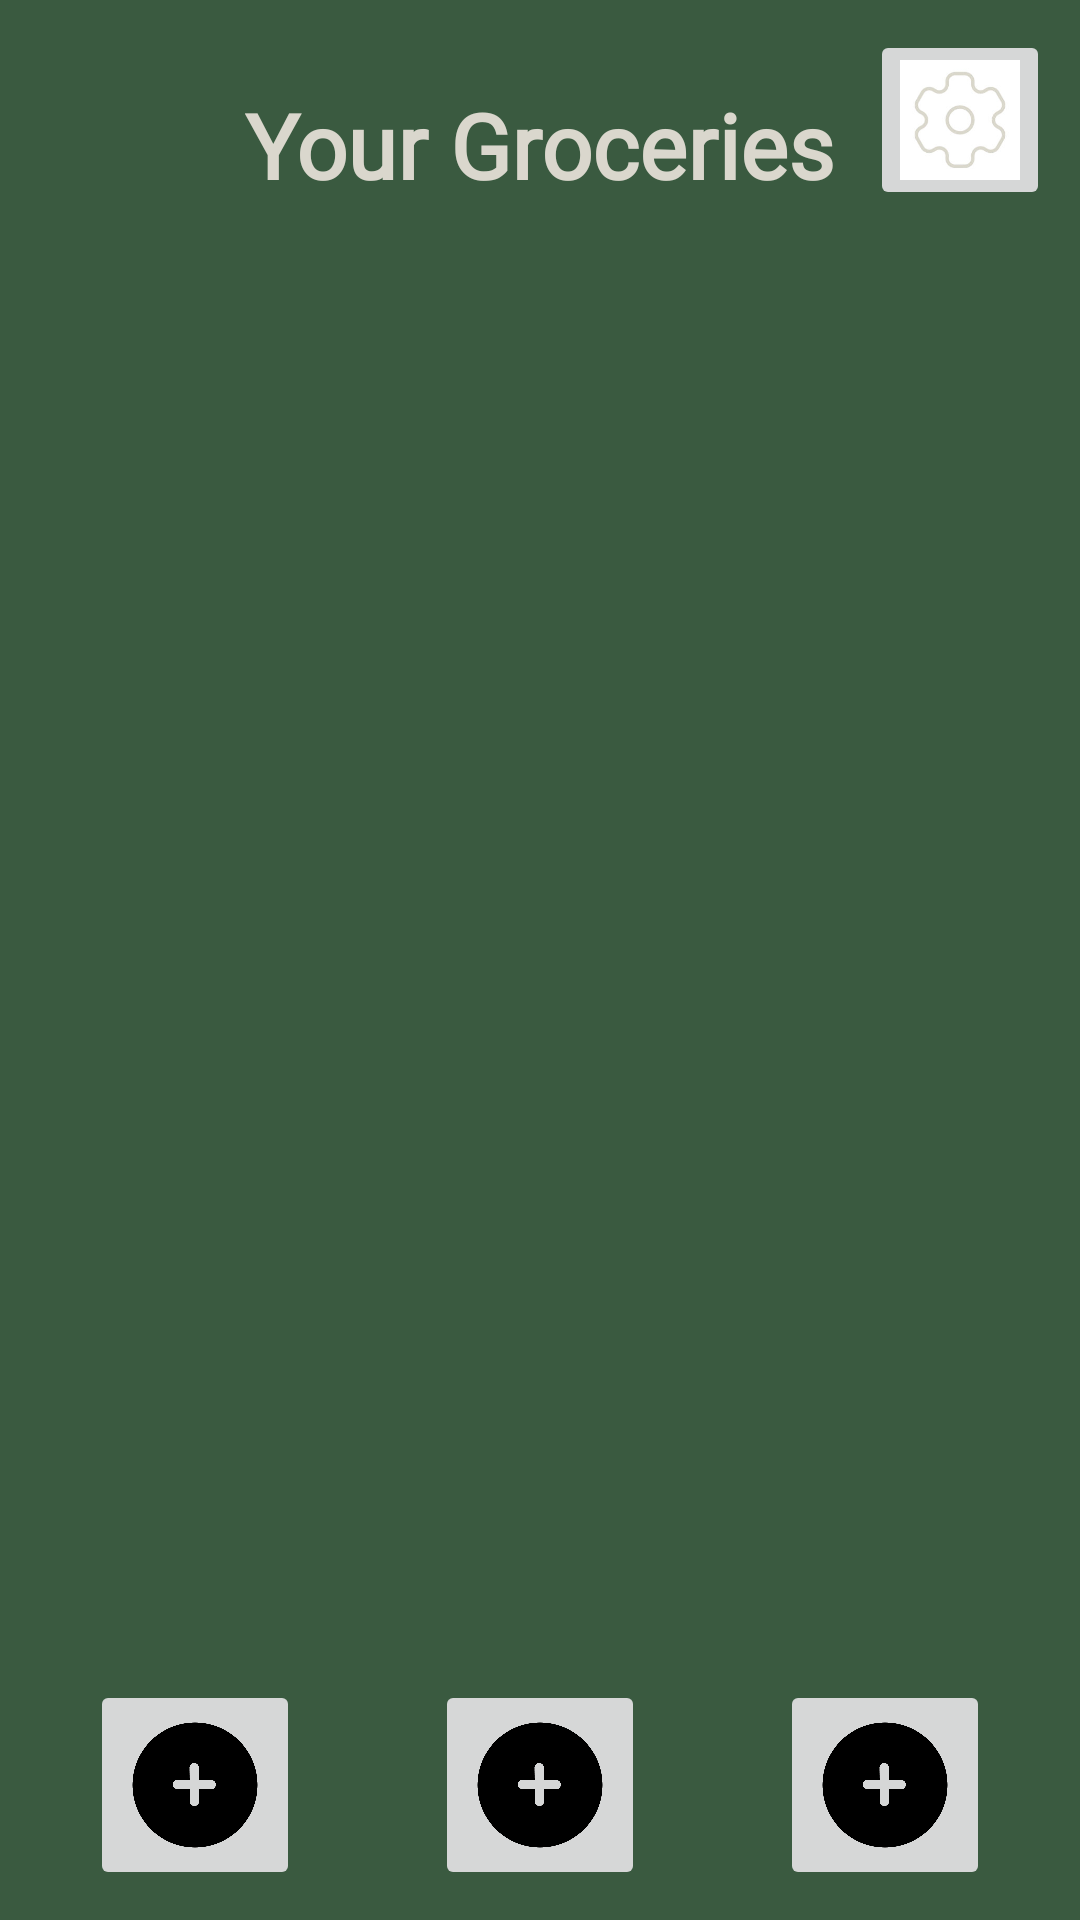

Screen size 1080w x 1920h. Icon name, then its center in pixels as (x=x, y=y):
plus: (x=195, y=1785), (x=540, y=1785), (x=885, y=1785)
settings: (x=960, y=120)
